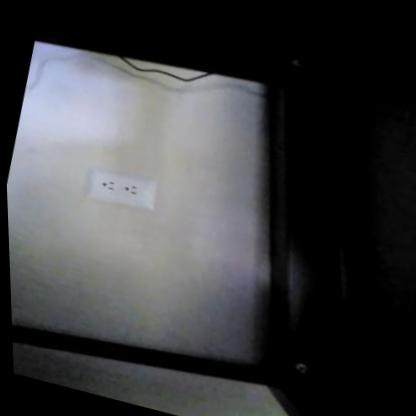OUTLET: (83, 162, 161, 213)
